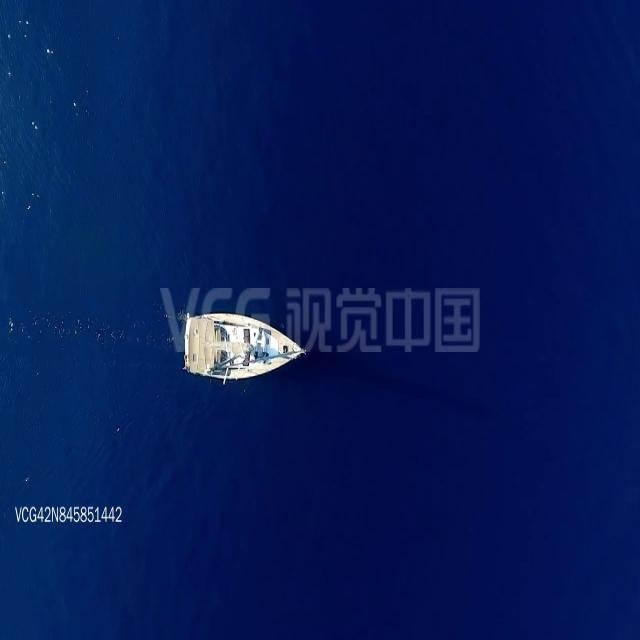sailboat: (183, 307, 310, 384)
